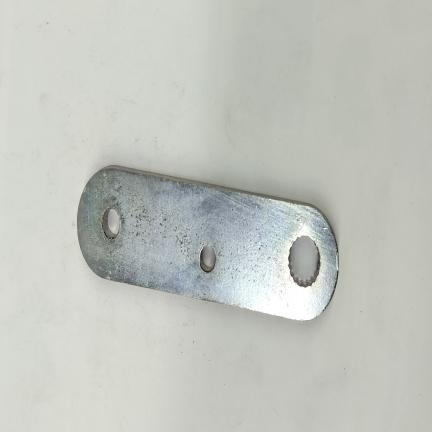black mark after electroplating: (135, 212, 170, 238)
